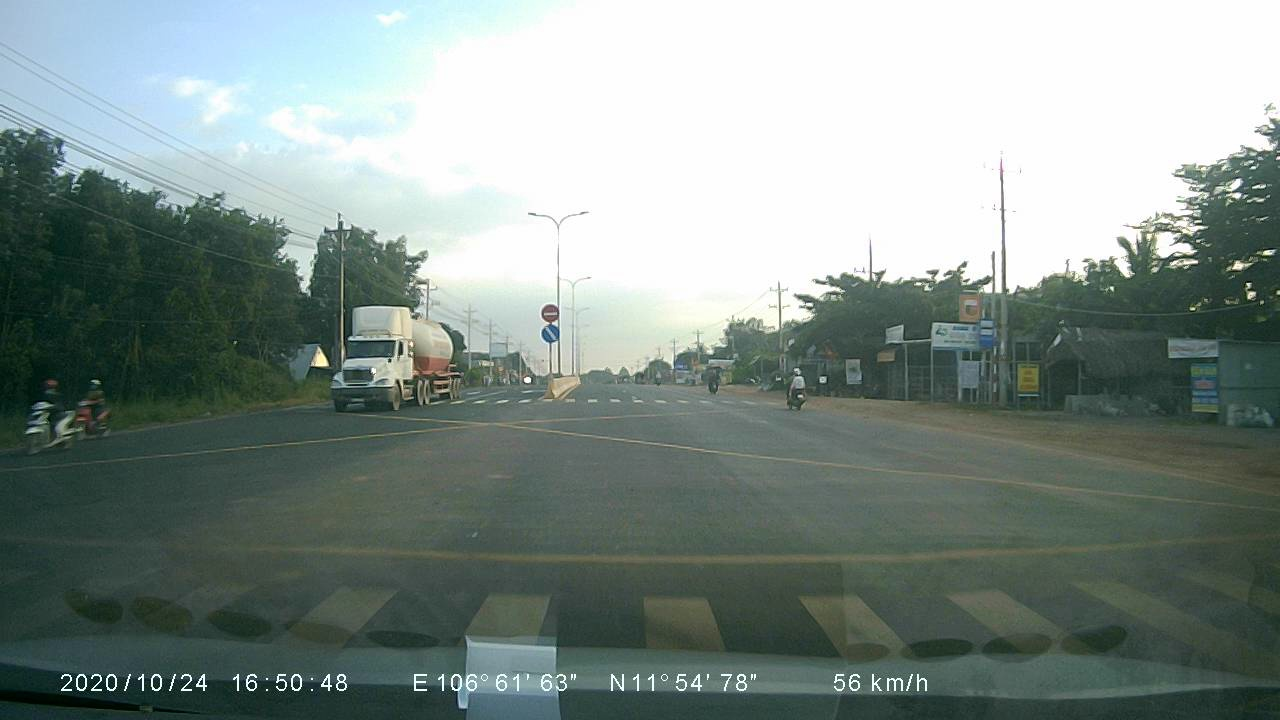Cam di nguoc chieu: (538, 303, 558, 322)
Huong di phai re phai: (538, 322, 558, 345)
